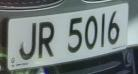0: (83, 12, 100, 55)
1: (98, 10, 108, 51)
5: (66, 13, 85, 59)
6: (106, 8, 121, 49)
J: (15, 19, 39, 63)
R: (36, 17, 57, 63)
